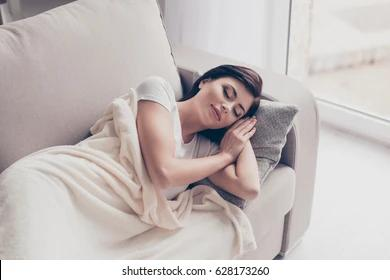blanket: (0, 87, 259, 260)
short sleeve shirt: (134, 76, 221, 202)
